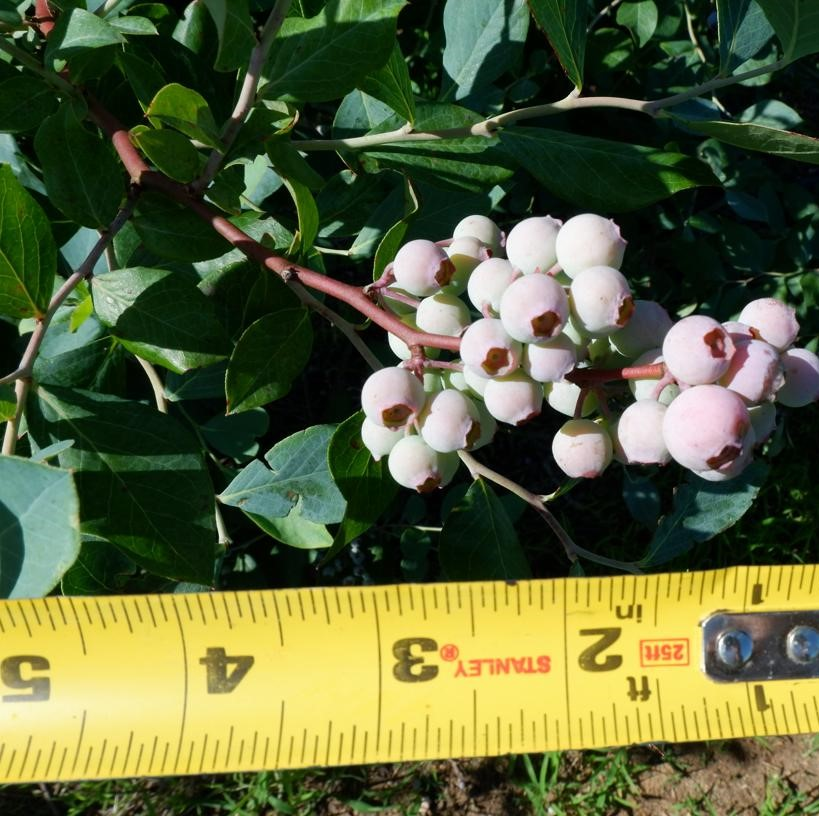Immature: (662, 385, 751, 472), (662, 315, 736, 385), (499, 273, 570, 345), (555, 213, 629, 280), (569, 266, 635, 339), (715, 339, 787, 404), (412, 389, 481, 453), (362, 366, 427, 431), (612, 400, 670, 467), (460, 319, 522, 379), (610, 301, 674, 359), (692, 425, 757, 482), (552, 418, 613, 478), (467, 258, 526, 319), (393, 238, 456, 295), (737, 297, 800, 354), (387, 434, 447, 493), (484, 368, 544, 426), (506, 216, 562, 275), (544, 360, 600, 418), (518, 331, 580, 382), (627, 348, 680, 407), (361, 417, 417, 462), (776, 348, 818, 408), (387, 312, 440, 359), (416, 293, 472, 337), (454, 215, 506, 258), (381, 281, 428, 316), (447, 236, 493, 271), (469, 397, 498, 450), (434, 260, 473, 297), (440, 358, 473, 400), (744, 401, 777, 443), (564, 313, 591, 359), (463, 364, 489, 406), (580, 337, 622, 363), (412, 367, 444, 400), (721, 321, 760, 343), (439, 451, 460, 488)
